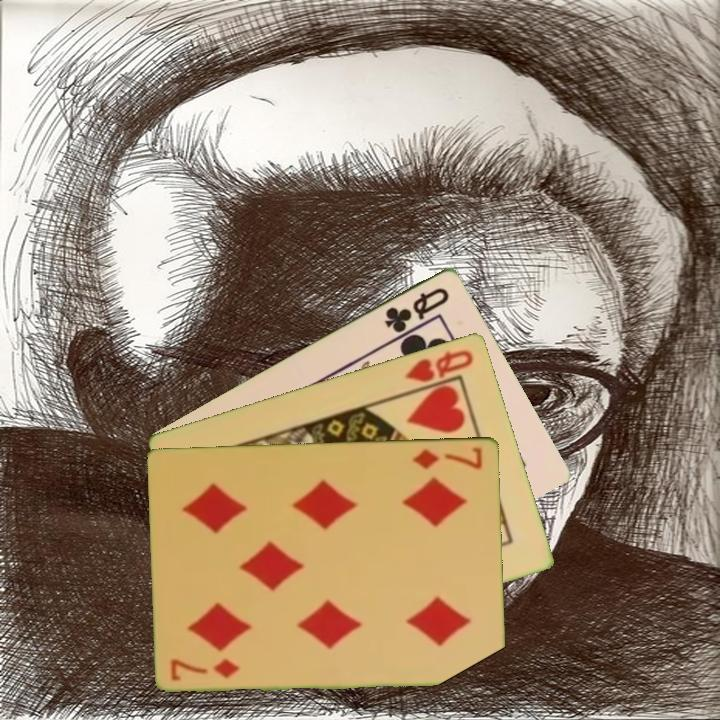7d: (409, 443, 486, 472), (167, 655, 243, 684)
Qc: (381, 283, 453, 336)
Qh: (401, 346, 477, 385)
